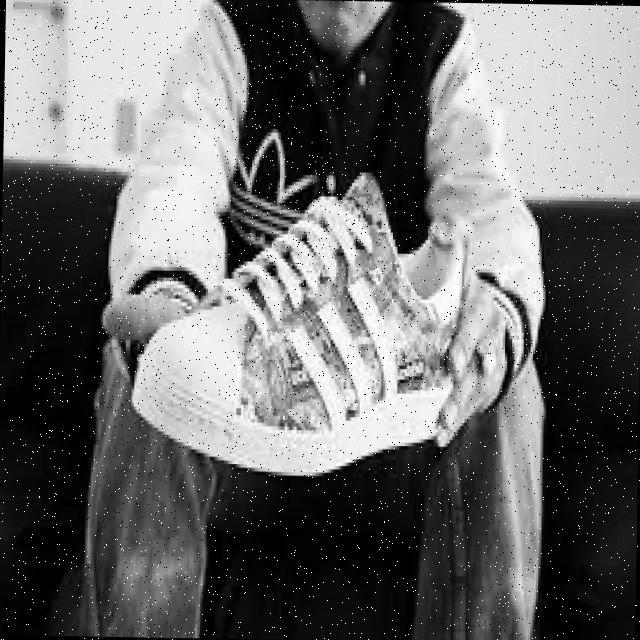Adidas: (211, 120, 332, 272)
